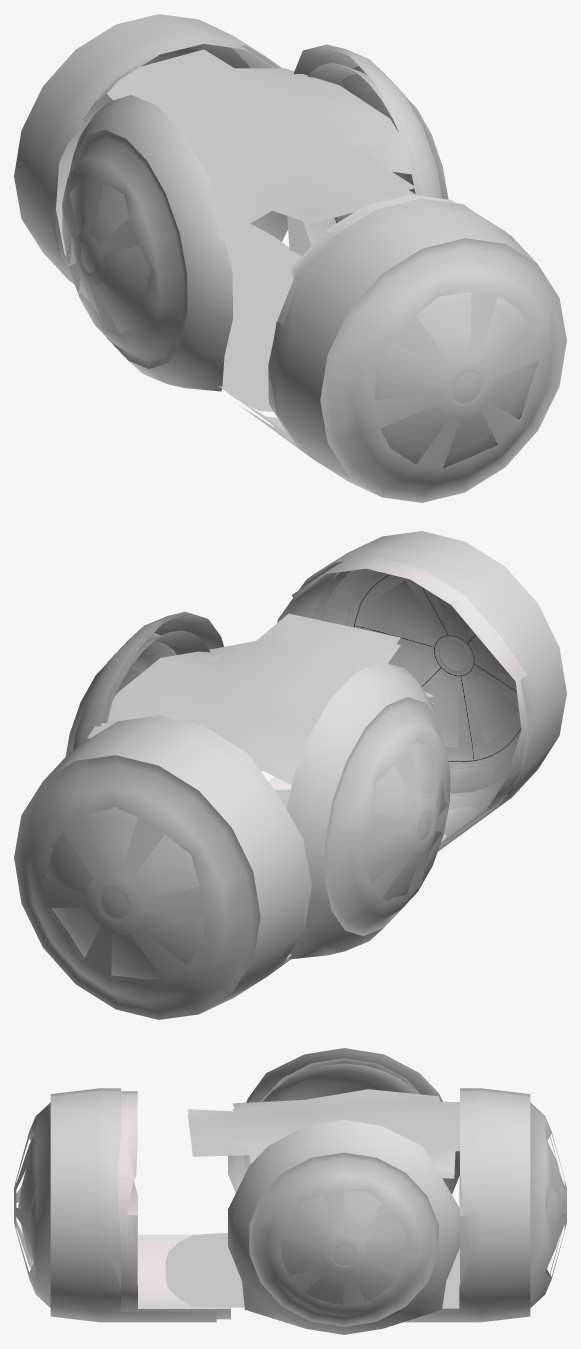
File: WorldViewCraft.FBX
3 views of the same model, one above another, from view 1: azimuth 30°, elevation 25°; view 2: azimuth 150°, elevation 25°; view 3: azimuth 270°, elevation 25° (orthographic). The views are drawn at different scales.
Parts seen in each view (by area): view 1: FrontWindow, LeftWindow, Plane004, BackWindow, FrontWindowGlass, Floor, LeftWindowGlass, RightWindow, RightWindow001, FrontWindow001, BackWindow001, BackWindowGlass (+3 smaller); view 2: BackWindow, LeftWindow, Plane004, FrontWindow001, FrontWindow, BackWindowGlass, FrontWindowGlass, LeftWindowGlass, RightWindow, RightWindow001, BackWindow001, RightWindowGlass (+1 smaller); view 3: RightWindow, FrontWindow, BackWindow, Plane004, RightWindowGlass, FrontWindow001, Floor, LeftWindow001, LeftWindowGlass, BackWindowGlass, FrontWindowGlass, BackWindow001 (+3 smaller).
Part boxes in pixels (bbox=[...]): FrontWindow: bbox=[241, 198, 566, 502]; LeftWindow: bbox=[62, 95, 232, 391]; Plane004: bbox=[110, 49, 415, 233]; BackWindow: bbox=[14, 14, 287, 284]; FrontWindowGlass: bbox=[375, 292, 538, 468]; Floor: bbox=[218, 223, 301, 411]; LeftWindowGlass: bbox=[70, 177, 150, 333]; RightWindow: bbox=[294, 44, 448, 199]; RightWindow001: bbox=[287, 46, 421, 255]; FrontWindow001: bbox=[241, 194, 520, 439]; BackWindow001: bbox=[52, 40, 287, 268]; BackWindowGlass: bbox=[56, 44, 249, 256]; BackWindow: bbox=[14, 715, 311, 1019]; LeftWindow: bbox=[287, 662, 450, 959]; Plane004: bbox=[87, 613, 433, 777]; FrontWindow001: bbox=[269, 557, 528, 845]; FrontWindow: bbox=[277, 531, 566, 851]; BackWindowGlass: bbox=[45, 806, 205, 978]; FrontWindowGlass: bbox=[312, 570, 518, 810]; LeftWindowGlass: bbox=[361, 742, 443, 900]; RightWindow: bbox=[65, 611, 219, 756]; RightWindow001: bbox=[101, 613, 223, 722]; BackWindow001: bbox=[42, 791, 277, 982]; RightWindowGlass: bbox=[112, 630, 209, 700]; RightWindow: bbox=[228, 1121, 460, 1334]; FrontWindow: bbox=[14, 1088, 216, 1322]; BackWindow: bbox=[404, 1088, 566, 1322]; Plane004: bbox=[188, 1089, 459, 1172]; RightWindowGlass: bbox=[281, 1190, 407, 1304]; FrontWindow001: bbox=[117, 1091, 230, 1319]; Floor: bbox=[165, 1233, 459, 1307]; LeftWindow001: bbox=[228, 1050, 459, 1194]; LeftWindowGlass: bbox=[243, 1063, 418, 1172]; BackWindowGlass: bbox=[545, 1141, 564, 1250]; FrontWindowGlass: bbox=[18, 1163, 35, 1262]; BackWindow001: bbox=[437, 1136, 564, 1311].
Size of the model in its own units: 148 by 121 by 268.
Materials: 1 (1 with a texture image).
